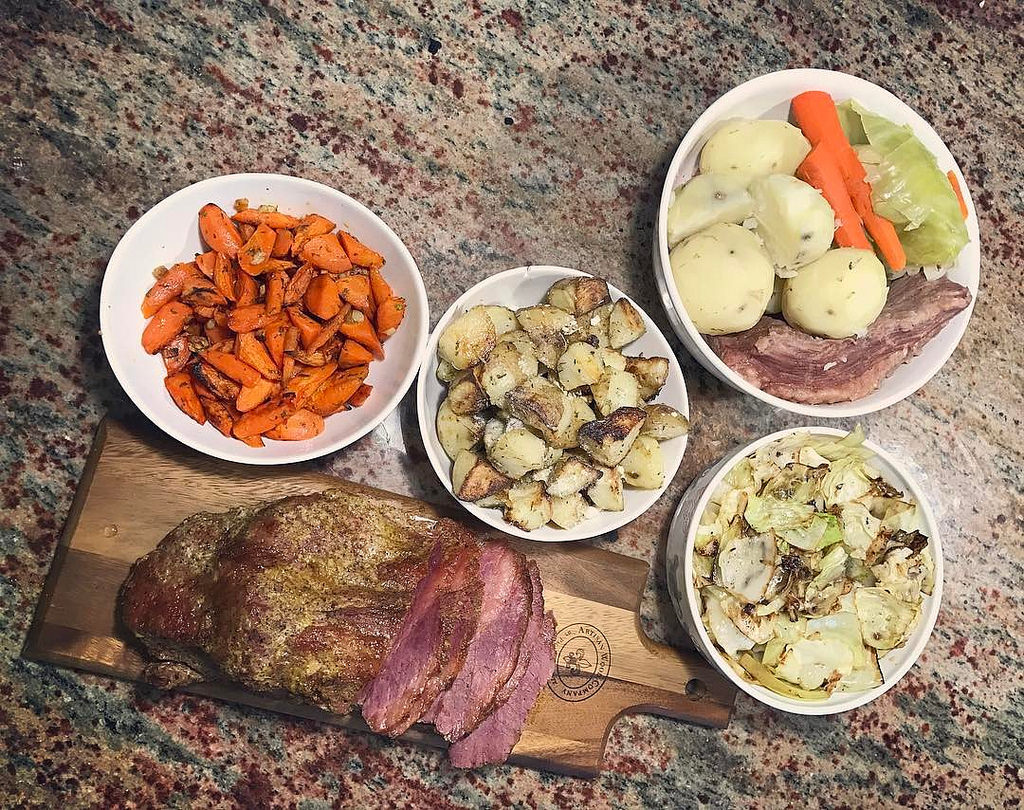boiled potatoes: (706, 133, 878, 315)
